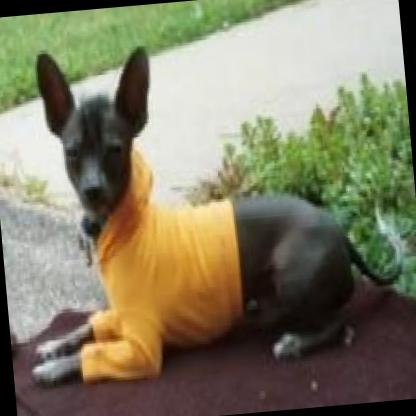Mexican_hairless: (1, 18, 414, 388)
